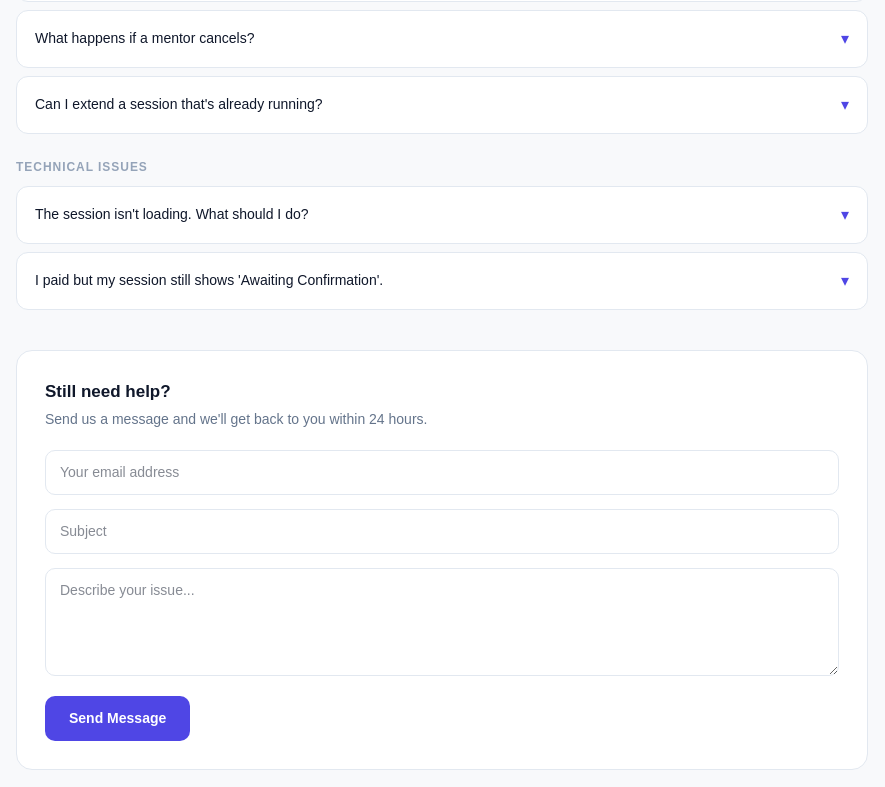
it: HelpCenter Component Suite › should submit the support form successfully and show the success state
The image size is (885, 787).
(page scrolled)
Step 1. Type "test@example.com" into the field with placeholder "Your email address" → (442, 472), box [45, 450, 839, 494]
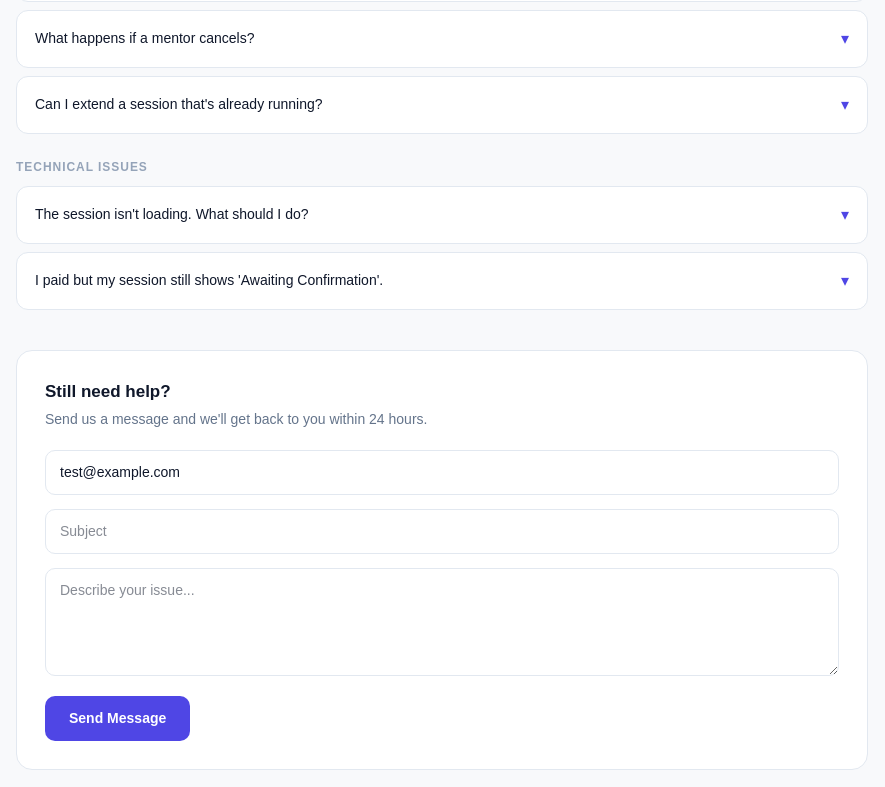
Step 2. Type "Help needed" into the field with placeholder "Subject" → (442, 531), box [45, 508, 839, 554]
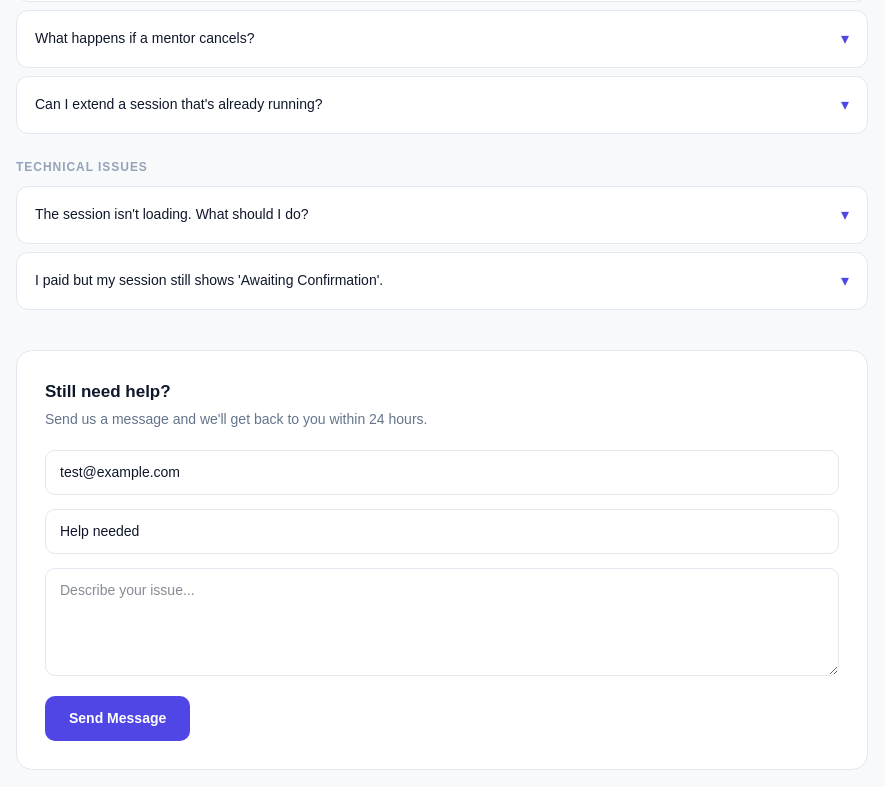
Step 3. Type "It broke" into the text box with placeholder "Describe your issue..." → (442, 622), box [45, 568, 839, 676]
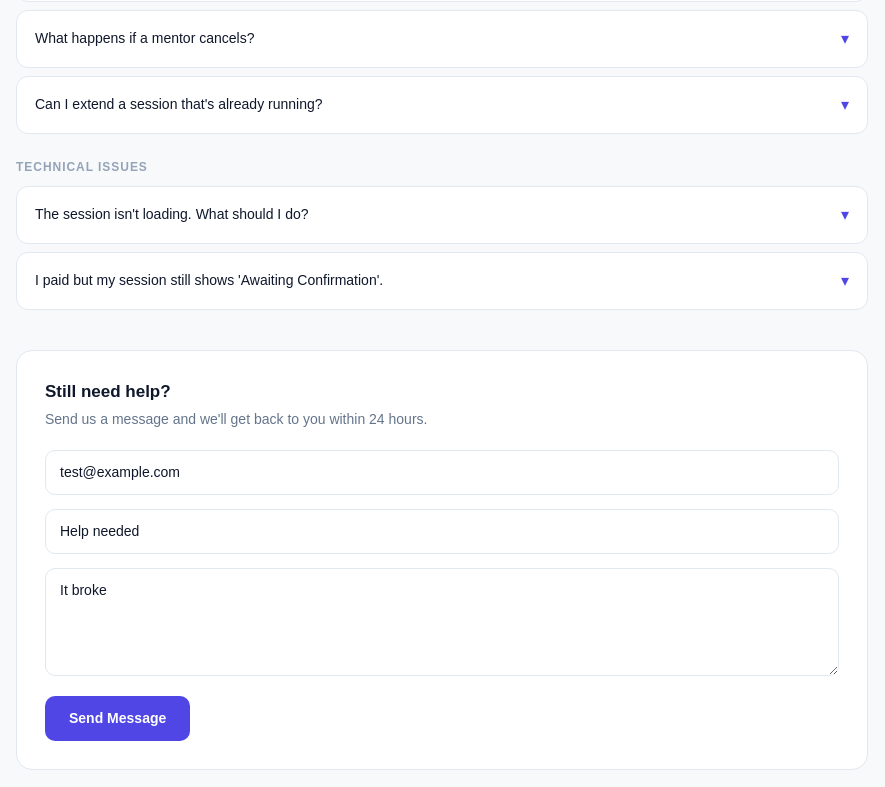
Step 4. Click the button "Send Message" → (118, 718), box [45, 696, 190, 740]
(page scrolled)
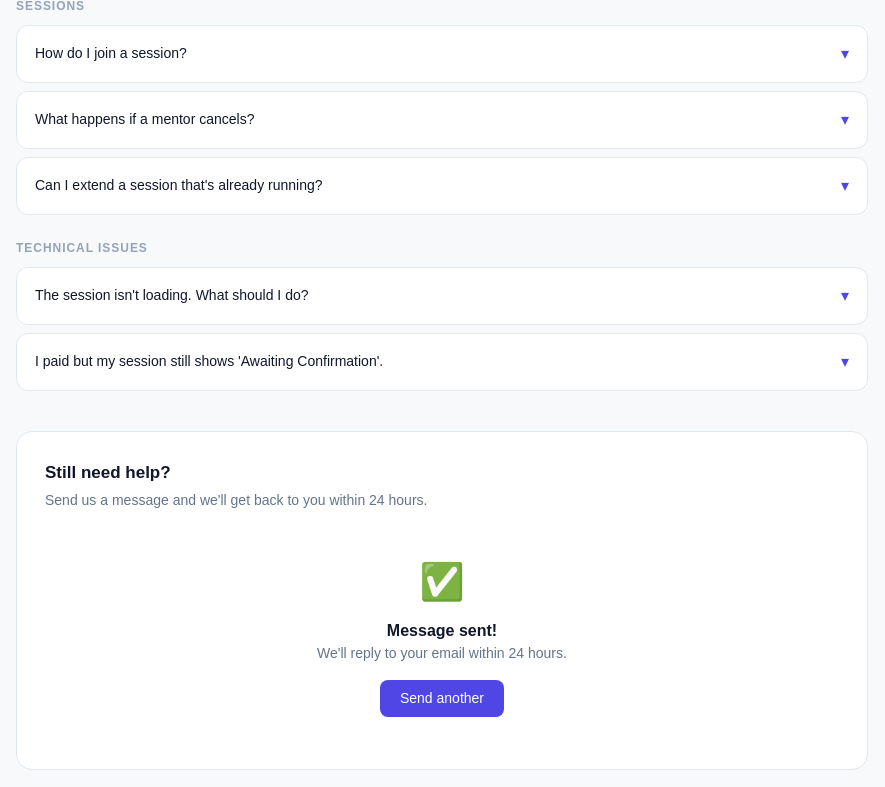
Expected: the text "Message sent!" is shown, [387, 622, 497, 638]
